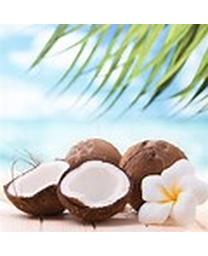coconut: (121, 141, 190, 213), (56, 160, 134, 221), (4, 158, 80, 218), (65, 138, 121, 178)
